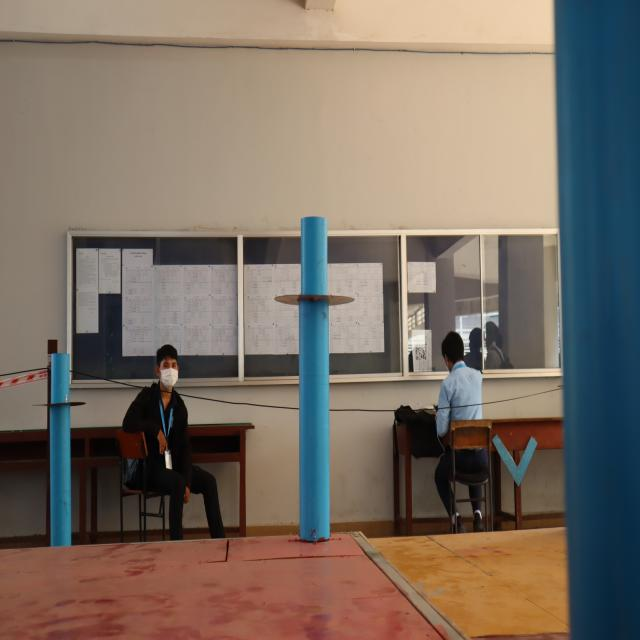pole: (274, 213, 352, 364), (38, 355, 88, 456)
